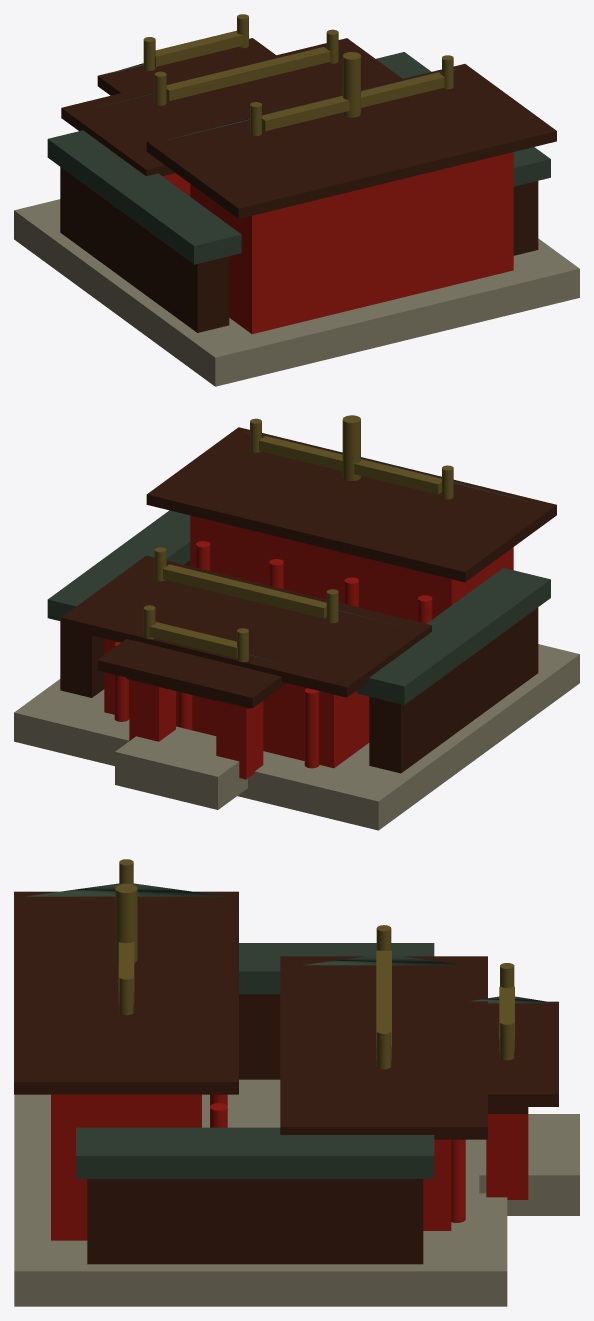
File: SouthPalace.fbx
3 views of the same model, one above another, from view 1: azimuth 30°, elevation 25°; view 2: azimuth 150°, elevation 25°; view 3: azimuth 270°, elevation 25° (orthographic). The views are drawn at different scales.
Parts seen in each view (by area): view 1: rear_hall_body, rear_hall_eave_belt, terrace, front_hall_eave_belt, east_gallery_1, east_gallery_roof, court_gate_eave_belt, rear_hall_ridge, front_hall_ridge, west_gallery_roof, west_gallery_1, court_gate_ridge (+1 smaller); view 2: rear_hall_eave_belt, terrace, front_hall_eave_belt, rear_hall_body, east_gallery_1, east_gallery_roof, front_hall_body, stair, court_gate_eave_belt, west_gallery_roof, court_gate_pier_east, rear_hall_ridge (+8 smaller); view 3: rear_hall_eave_belt, front_hall_eave_belt, terrace, west_gallery_1, west_gallery_roof, rear_hall_body, court_gate_eave_belt, stair, east_gallery_roof, east_gallery_1, court_gate_pier_west, central_court_paving (+11 smaller).
Boxes of the visible parts, x1,y1,x2,y2 form: rear_hall_body: (190,152,513,334); rear_hall_eave_belt: (146,64,556,218); terrace: (14,199,579,386); front_hall_eave_belt: (61,38,402,176); east_gallery_1: (60,167,229,332); east_gallery_roof: (47,130,241,264); court_gate_eave_belt: (97,38,275,95); rear_hall_ridge: (262,72,444,131); front_hall_ridge: (166,47,330,100); west_gallery_roof: (376,52,550,186); west_gallery_1: (513,181,538,255); court_gate_ridge: (155,30,243,66); rear_hall_eave_belt: (146,427,556,582); terrace: (14,644,579,830); front_hall_eave_belt: (61,555,431,697); rear_hall_body: (190,515,513,621); east_gallery_1: (369,607,538,773); east_gallery_roof: (357,568,550,704); front_hall_body: (104,638,369,768); stair: (115,726,247,809); court_gate_eave_belt: (97,639,286,708); west_gallery_roof: (47,510,190,621); court_gate_pier_east: (216,700,263,779); rear_hall_ridge: (259,436,441,494); rear_hall_eave_belt: (14,891,238,1094); front_hall_eave_belt: (280,956,487,1139); terrace: (14,1079,507,1306); west_gallery_1: (87,1179,423,1264); west_gallery_roof: (76,1127,434,1178); rear_hall_body: (51,1094,201,1240); court_gate_eave_belt: (488,1001,558,1106); stair: (479,1114,579,1215); east_gallery_roof: (239,943,434,994); east_gallery_1: (239,994,280,1079); court_gate_pier_west: (486,1114,528,1199); central_court_paving: (202,1086,280,1127).
Bounding box in the file's own units: 92 × 61 × 101.
